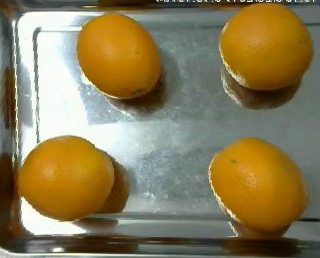Orange: (207, 136, 308, 233), (216, 2, 315, 92), (17, 133, 116, 220), (77, 12, 161, 98)
